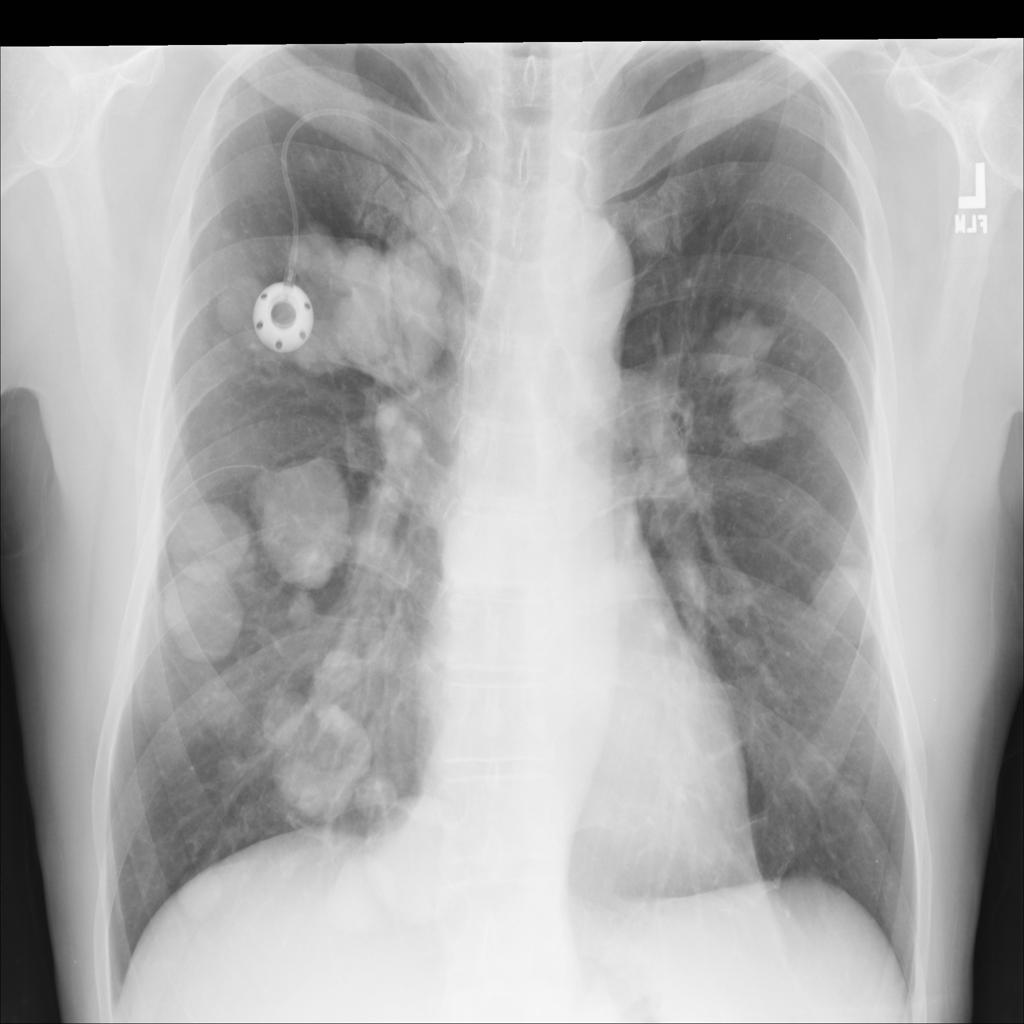nodule: (326, 223, 454, 395), (243, 439, 368, 592), (258, 689, 375, 824), (144, 536, 256, 666), (157, 486, 271, 599), (796, 536, 892, 660), (722, 368, 800, 459), (706, 298, 784, 379), (273, 748, 349, 826), (166, 855, 237, 934), (185, 667, 251, 746), (250, 672, 314, 751), (344, 758, 415, 829), (621, 191, 684, 270), (303, 638, 373, 708), (820, 755, 882, 834), (202, 262, 263, 342), (207, 744, 258, 798), (708, 143, 757, 198), (722, 623, 771, 678)
